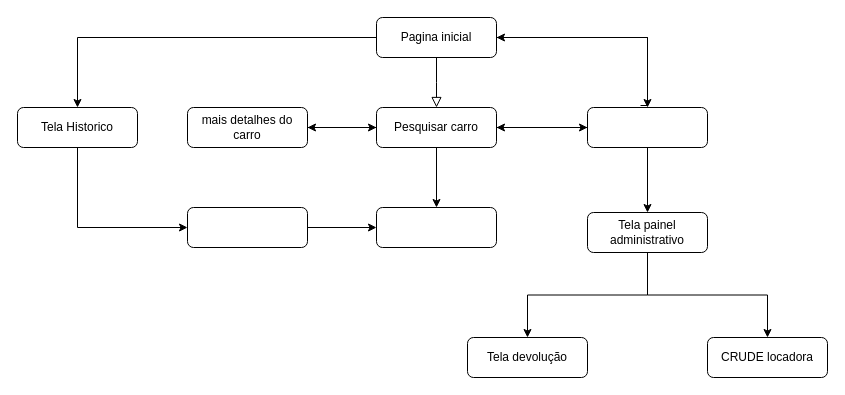
The diagram is 845 pixels wide and 395 high, and some of its shapes have lost their labels. Each missing label, with the box of its shape:
Tela de login: (586, 106, 708, 148)
Tela Realizar reserva novamente: (186, 206, 308, 248)
Tela Reserva: (376, 206, 496, 248)
